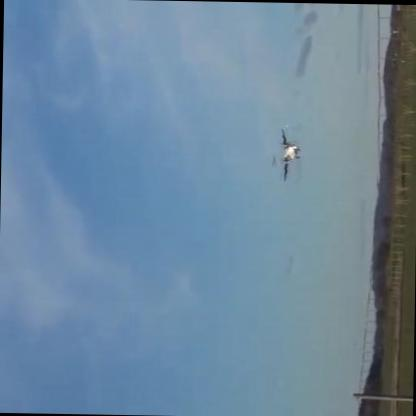plane: (271, 124, 302, 181)
